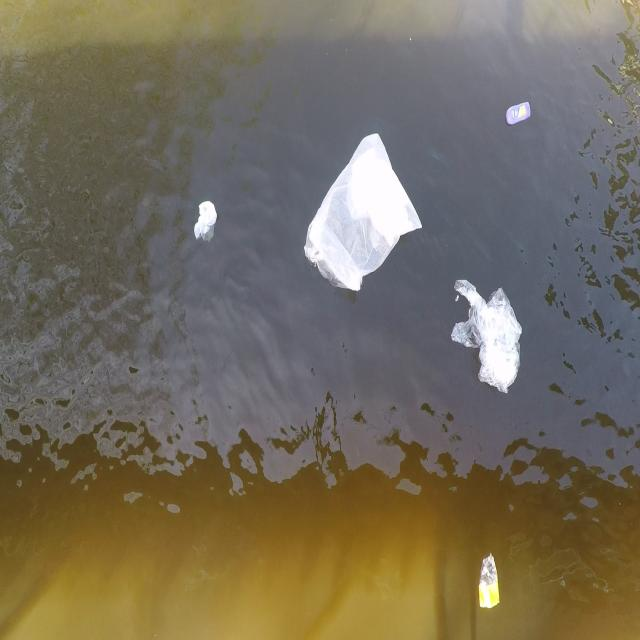Sac plastique: (300, 125, 424, 305), (445, 265, 526, 403), (185, 186, 223, 254), (473, 546, 506, 622)
